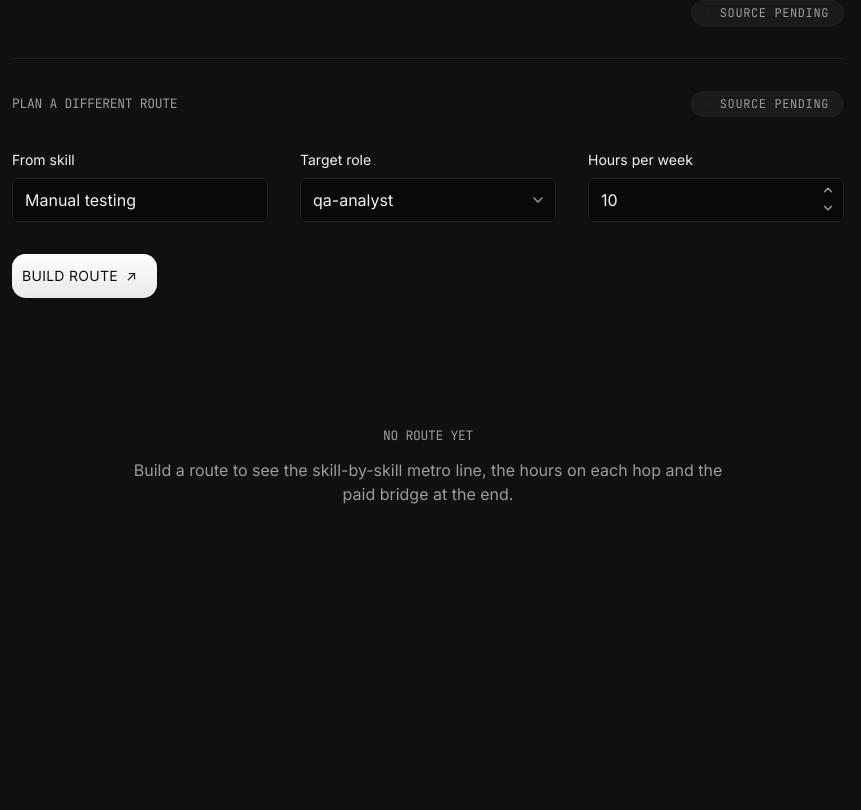
Test case: RouteMap › renders the paid bridge defensively when the server returns no bridge
The image size is (861, 810).
Click the button "Build route ↗": (85, 276) [12,254,157,298]
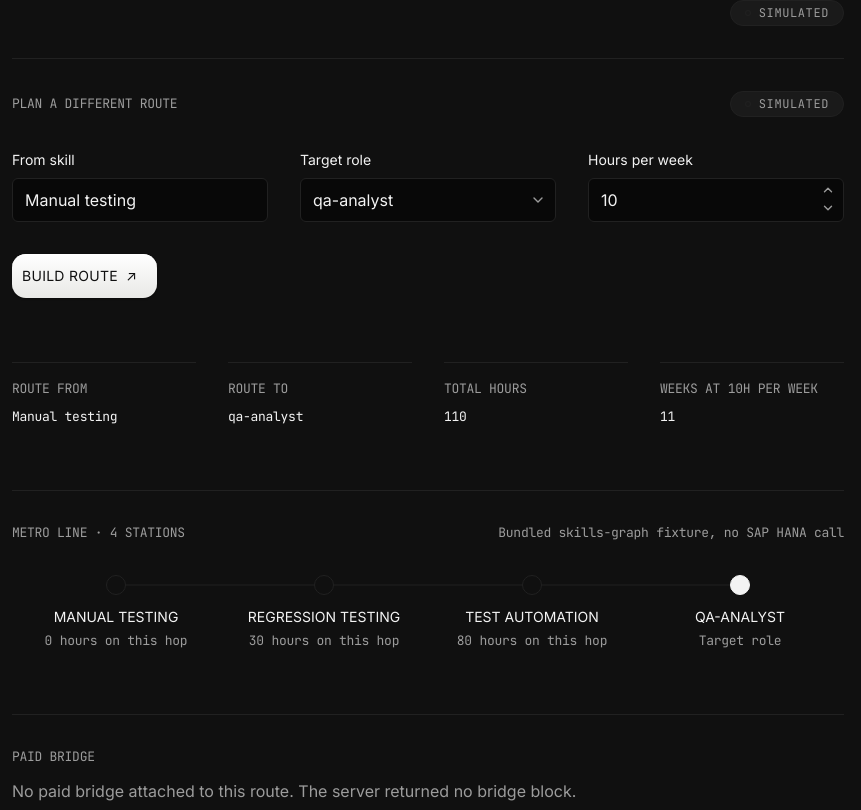
Check: the text "Paid bridge" is shown, box [12,748,95,765]
Check: the text "No paid bridge attached to this route. The server returned no bridge block." is shown, box [12,778,632,802]
